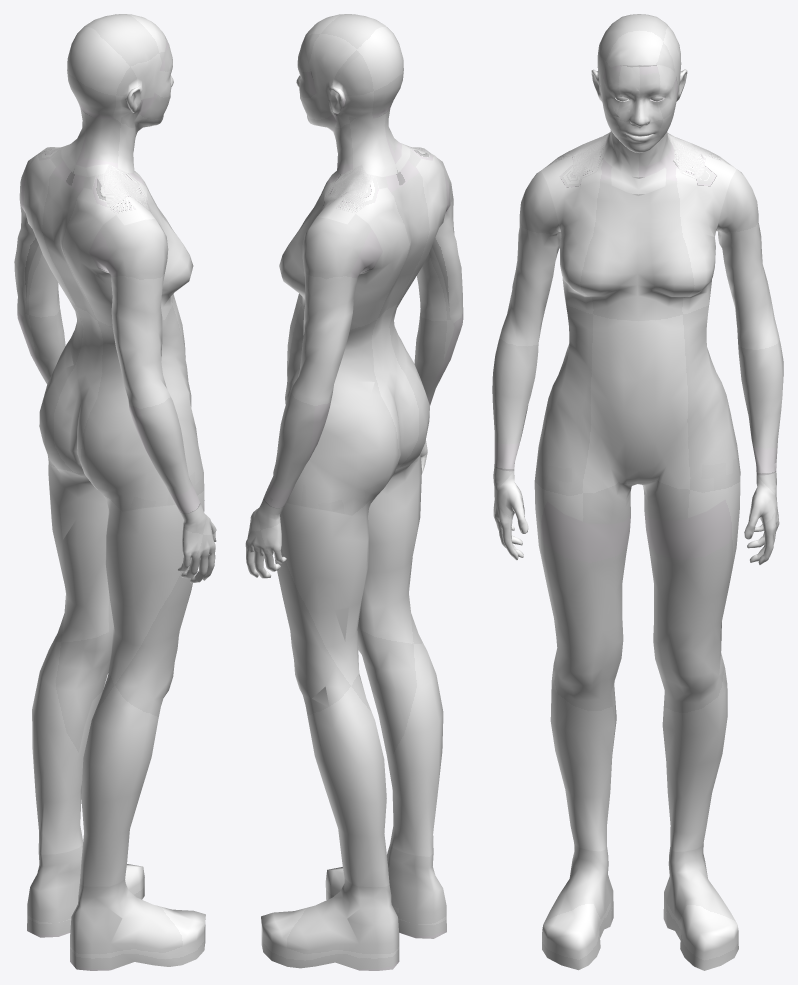
File: Player.FBX
3 renders of one model, left to right at view 1: azimuth 30°, elevation 25°; view 2: azimuth 150°, elevation 25°; view 3: azimuth 270°, elevation 25°, orthographic.
Visible parts, largest first — view 1: Player; view 2: Player; view 3: Player.
Boxes of the visible parts, box(x1,y1,x2,y2) form: Player: box(14, 14, 216, 970); Player: box(245, 14, 463, 970); Player: box(492, 14, 783, 970).
Size of the model in its own units: 0.2591 by 1.79 by 0.5128.
